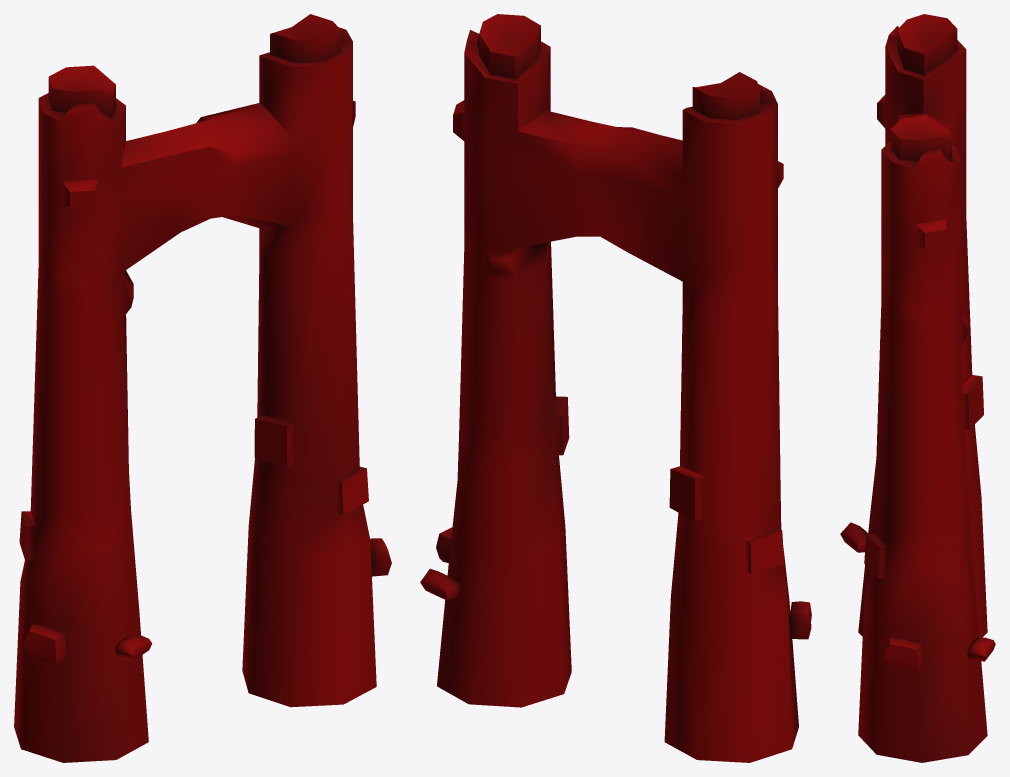
Rendered from buildings-ruins-cathedralruins_v1.fbx.
The picture shows the model from 3 angles, left to right: view 1: azimuth 30°, elevation 25°; view 2: azimuth 150°, elevation 25°; view 3: azimuth 270°, elevation 25°; orthographic projection. The views are drawn at different scales.
Parts seen in each view (by area): view 1: CathedralRuins_v1; view 2: CathedralRuins_v1; view 3: CathedralRuins_v1.
Boxes of the visible parts, x1=… form: CathedralRuins_v1: x1=14, y1=14, x2=391, y2=762; CathedralRuins_v1: x1=420, y1=14, x2=811, y2=762; CathedralRuins_v1: x1=840, y1=14, x2=995, y2=762.
Size of the model in its own units: 6.16 by 10.45 by 2.44.
